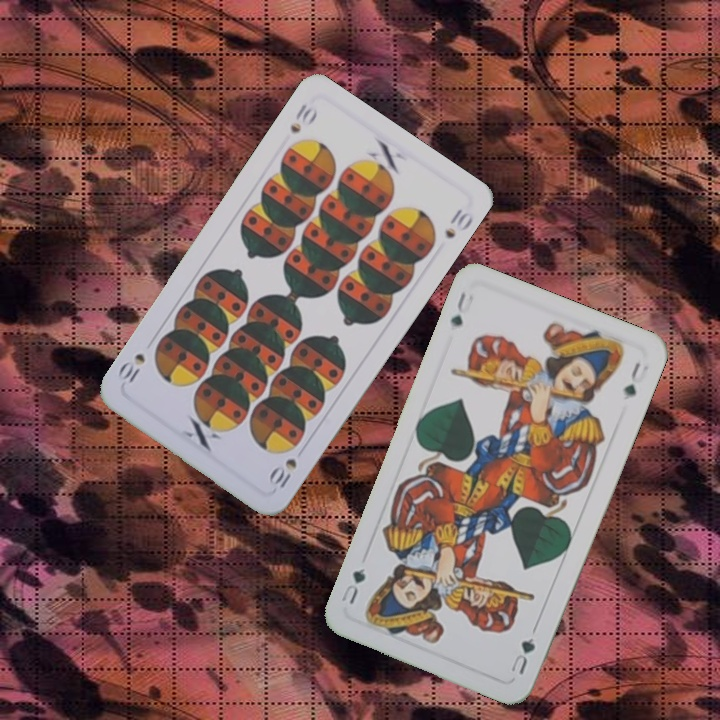GU: (506, 633, 538, 677), (446, 287, 476, 330)
S10: (264, 454, 300, 493), (286, 99, 321, 136)
